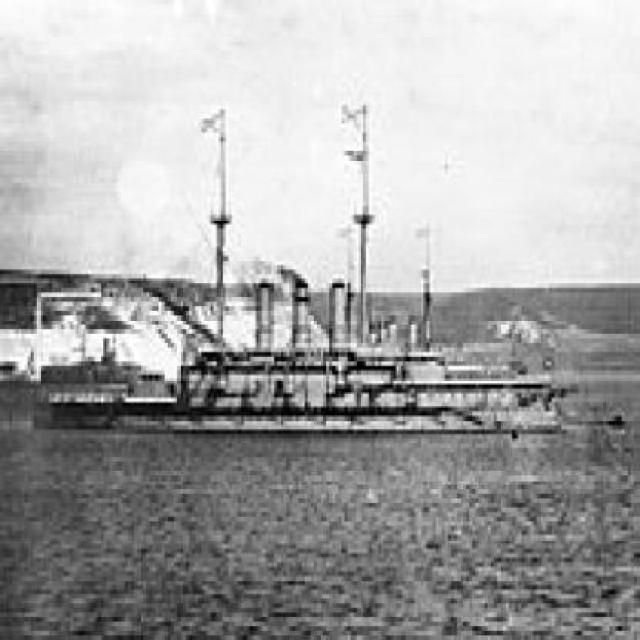warship2: (37, 92, 583, 445)
